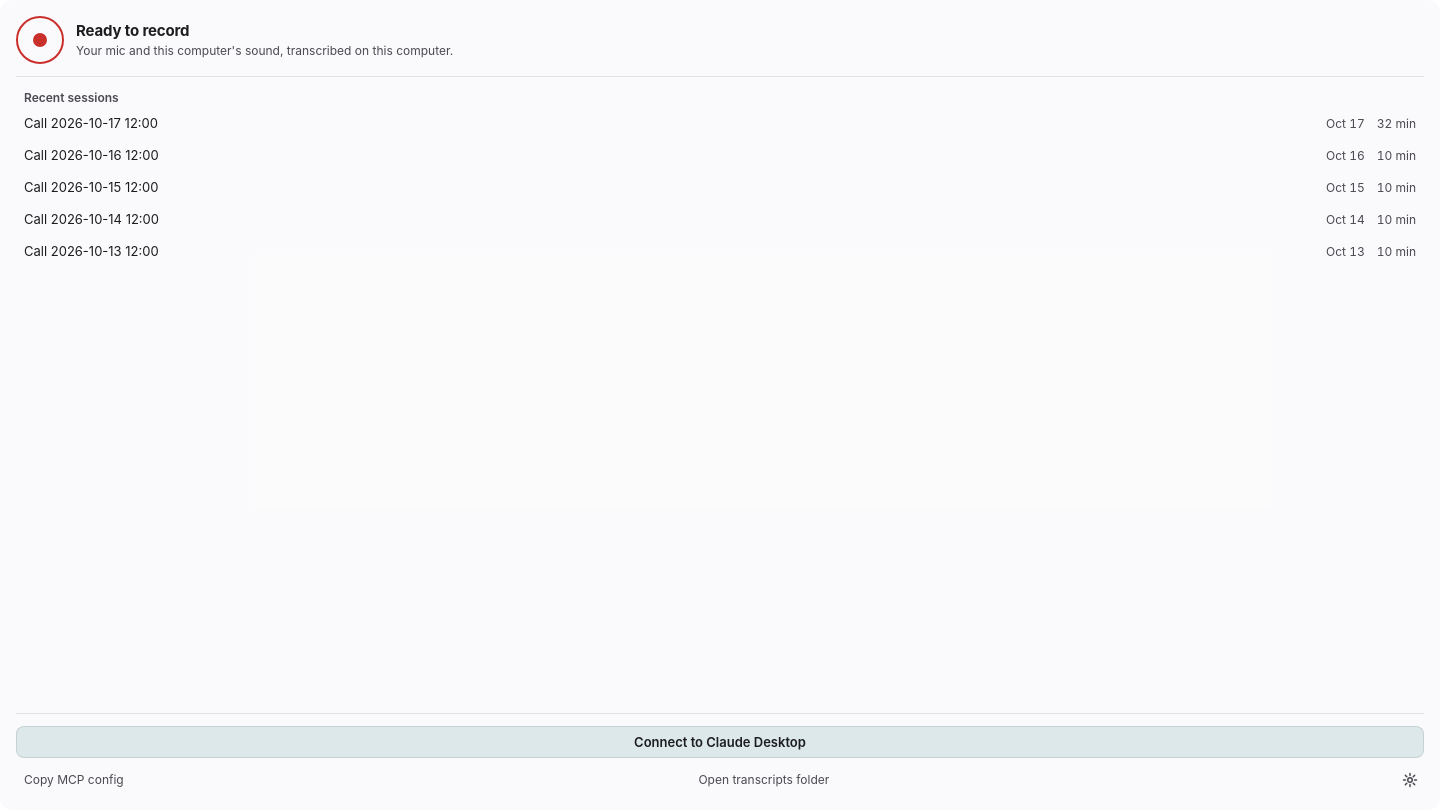
Test: the popover settings › shows which version of Scribe is running
Click the button named "Settings": (1410,780) [1396,766,1424,794]
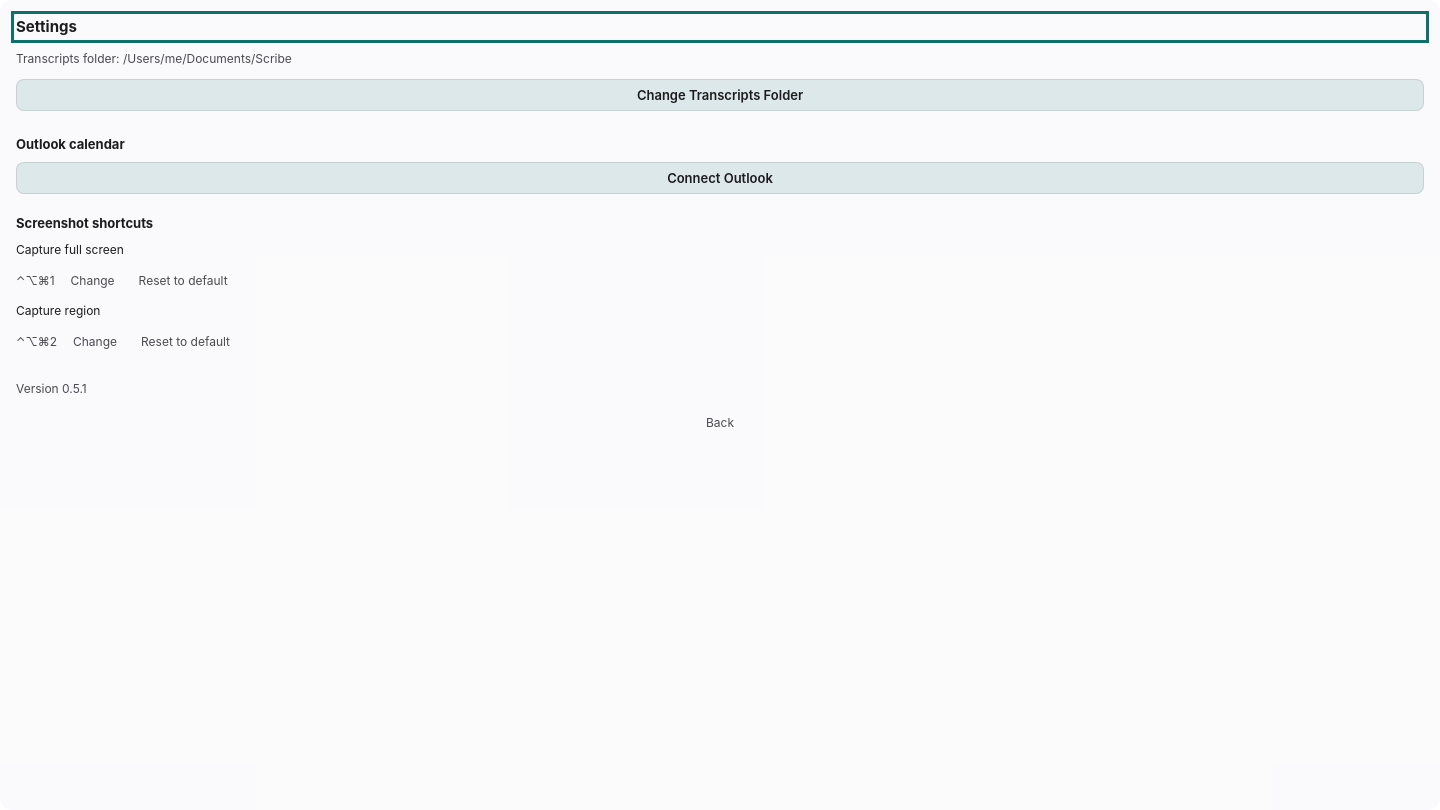
Expected: the text "Version 0.5.1" is shown, [16,381,87,396]
